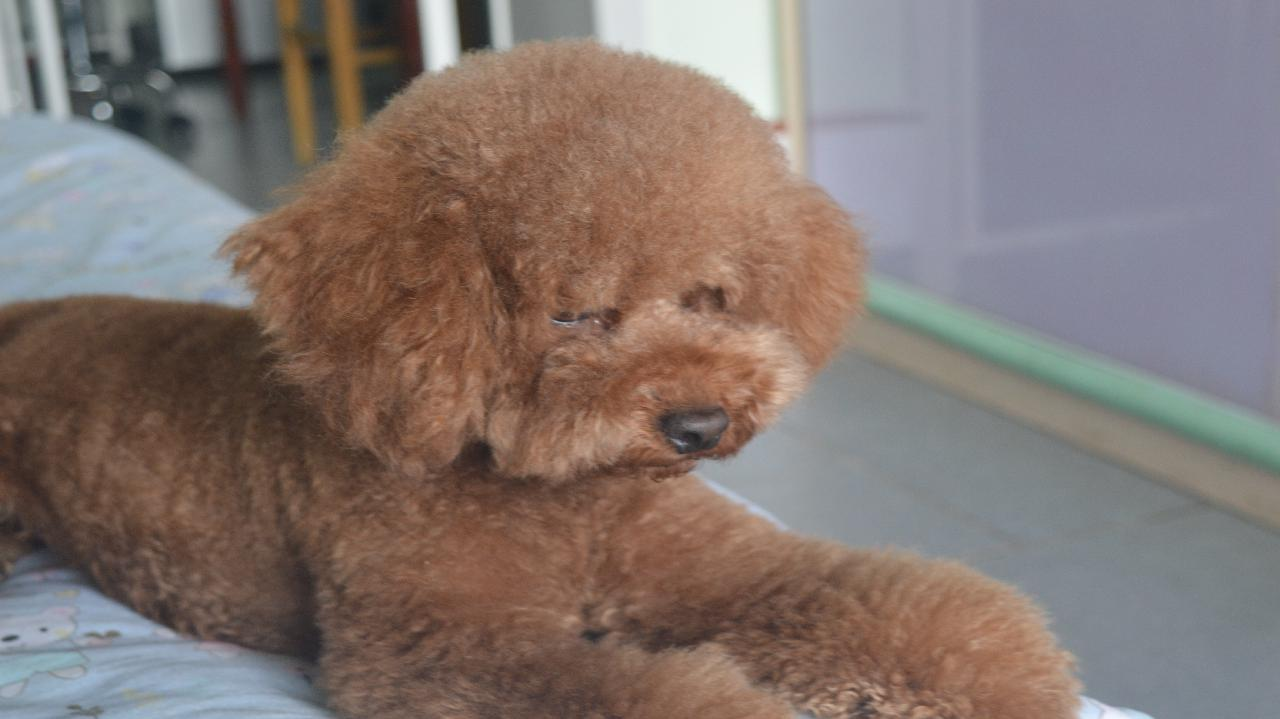zhuangzhuang: (8, 37, 1087, 719)
